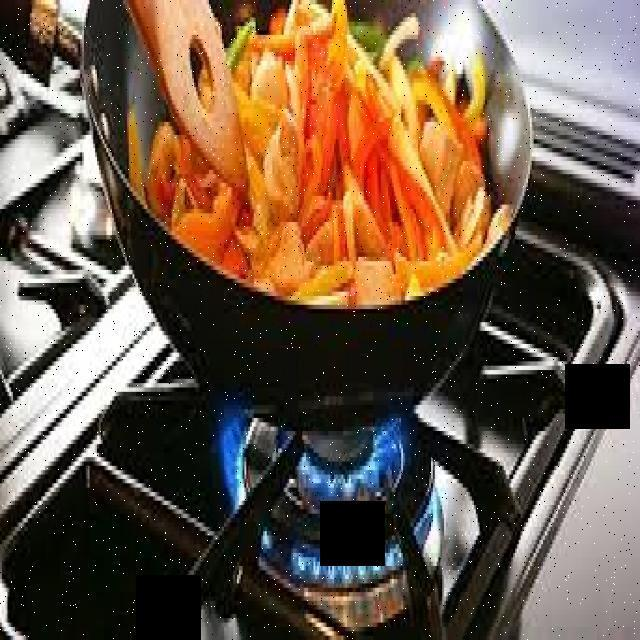Flame: (214, 418, 418, 582)
Pan: (96, 1, 574, 432)
